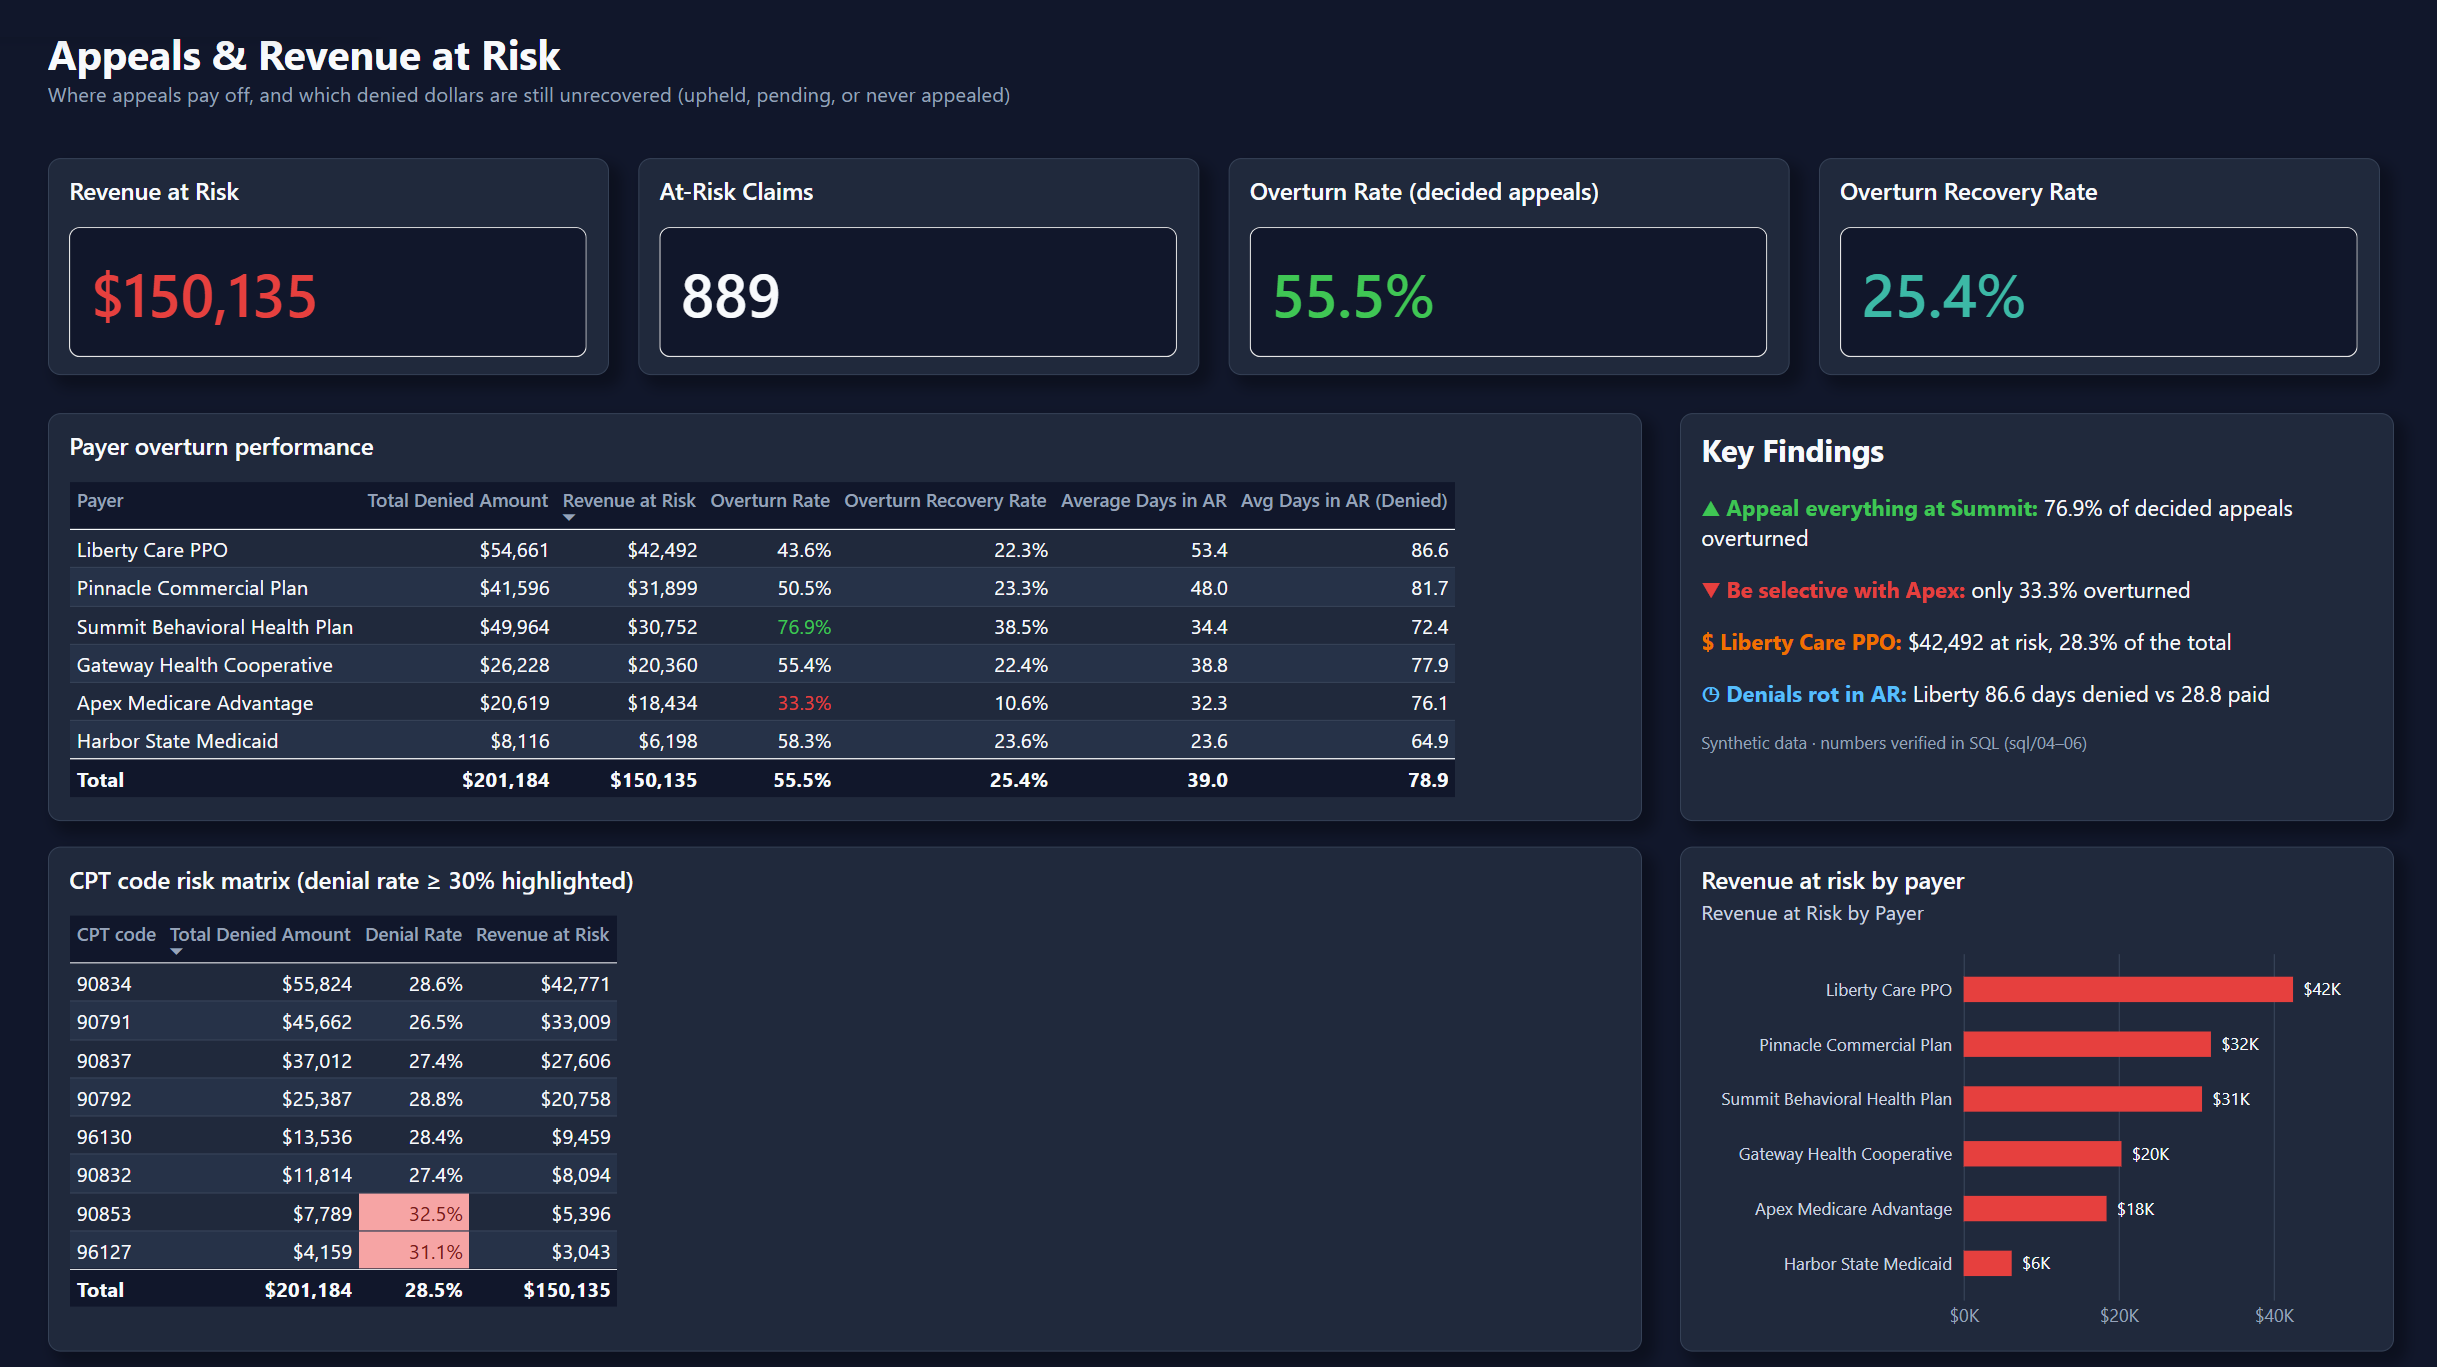

The dashboard page shown, as its layout file describes it:
{"tool":"powerbi","page":{"name":"Appeals & At-Risk","canvas":[1920,1080],"ordinal":1},"visuals":[{"type":"textbox","box":[40,20,1340,84],"z":100},{"type":"cardVisual","title":"Revenue at Risk","fields":{"Data":["_Measures.Revenue at Risk"]},"box":[40,124,440,170],"z":200},{"type":"cardVisual","title":"At-Risk Claims","fields":{"Data":["_Measures.At-Risk Claims"]},"box":[503,124,440,170],"z":200},{"type":"cardVisual","title":"Overturn Rate (decided appeals)","fields":{"Data":["_Measures.Overturn Rate"]},"box":[966,124,440,170],"z":200},{"type":"cardVisual","title":"Overturn Recovery Rate","fields":{"Data":["_Measures.Overturn Recovery Rate"]},"box":[1429,124,440,170],"z":200},{"type":"tableEx","title":"Payer overturn performance","fields":{"Values":["FactClaims.payer_name","_Measures.Total Denied Amount","_Measures.Revenue at Risk","_Measures.Overturn Rate","_Measures.Overturn Recovery Rate","_Measures.Average Days in AR","_Measures.Avg Days in AR (Denied)"]},"box":[40,324,1250,320],"z":300},{"type":"tableEx","title":"CPT code risk matrix (denial rate ≥ 30% highlighted)","fields":{"Values":["FactClaims.cpt_code","_Measures.Total Denied Amount","_Measures.Denial Rate","_Measures.Revenue at Risk"]},"box":[40,664,1250,396],"z":300},{"type":"clusteredBarChart","title":"Revenue at risk by payer","fields":{"Category":["FactClaims.payer_name"],"Y":["_Measures.Revenue at Risk"]},"box":[1320,664,560,396],"z":300},{"type":"textbox","box":[1320,324,560,320],"z":400}]}

Visuals, with their boxes in screenshot pixels (x1, y1, x2, y2), scaled from the page's 1920x1080 canvas onto the 2437x1367 screenshot:
textbox: bbox=(51, 25, 1752, 132)
"Revenue at Risk" cardVisual: bbox=(51, 157, 609, 372)
"At-Risk Claims" cardVisual: bbox=(638, 157, 1197, 372)
"Overturn Rate (decided appeals)" cardVisual: bbox=(1226, 157, 1785, 372)
"Overturn Recovery Rate" cardVisual: bbox=(1814, 157, 2372, 372)
"Payer overturn performance" tableEx: bbox=(51, 410, 1637, 815)
"CPT code risk matrix (denial rate ≥ 30% highlighted)" tableEx: bbox=(51, 840, 1637, 1342)
"Revenue at risk by payer" clusteredBarChart: bbox=(1675, 840, 2386, 1342)
textbox: bbox=(1675, 410, 2386, 815)
